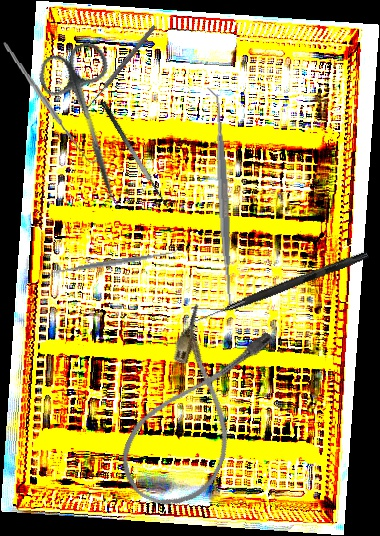Cannula: (108, 298, 281, 522)
Hook Surgical: (192, 248, 370, 328), (1, 33, 99, 171), (79, 22, 161, 121)
Iris Scissors: (33, 38, 149, 210)
Spatula Surgical: (99, 95, 177, 212), (204, 85, 242, 312), (44, 245, 181, 281)
